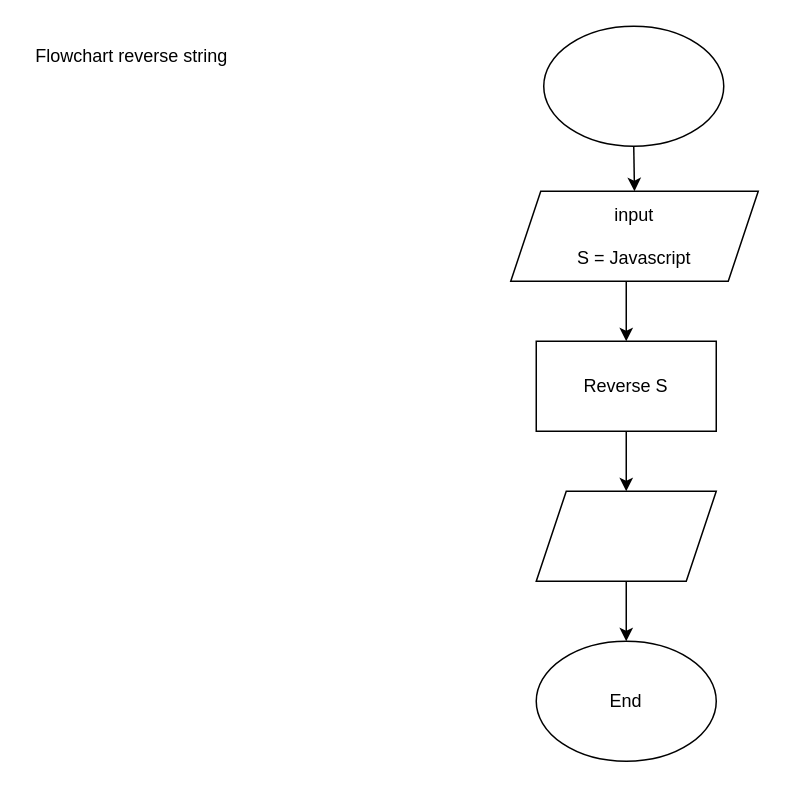
Image size: 785x788. Some labels were removed from this diagram. The shapes that lost their labels are listed below. From the top down, each one's centre as x and y in pixels, then its label:
the point at 633,85: Start
the point at 625,535: Output S
